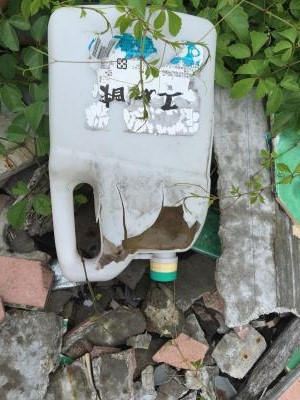bottle: (43, 3, 222, 290)
